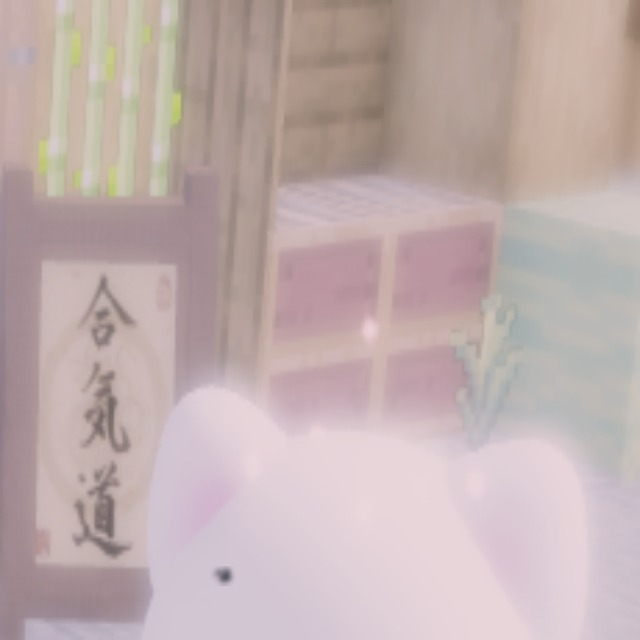urso_preto: (210, 566, 236, 586)
